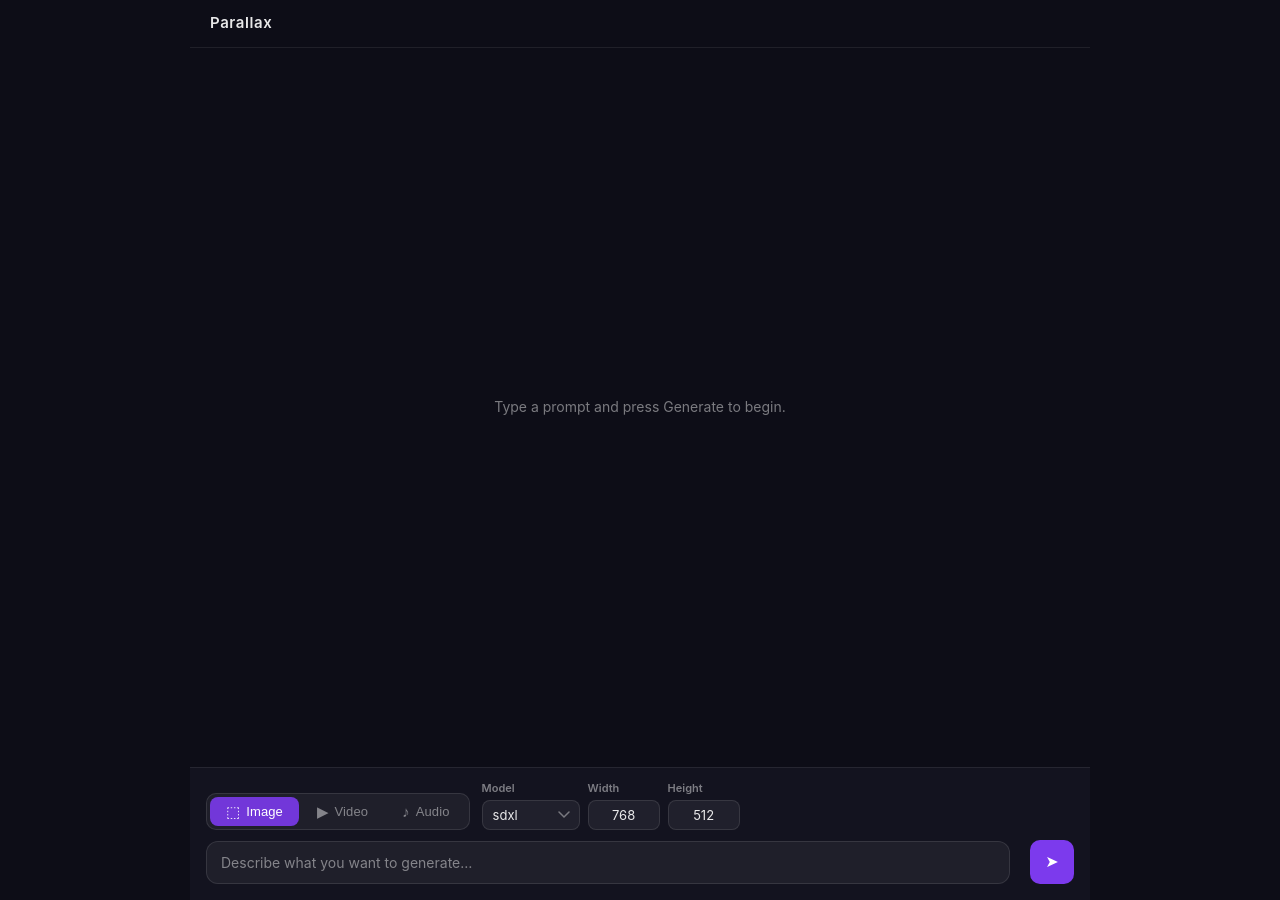
Scenario: US-003 AC03 — assistant bubble with progress indicator › shows an assistant bubble immediately after submit
The width and height of the screenshot is (1280, 900).
In the text box with test id "prompt-input": coordinates (608, 862) top-left (206, 841), bottom-right (1010, 884), type "test prompt"
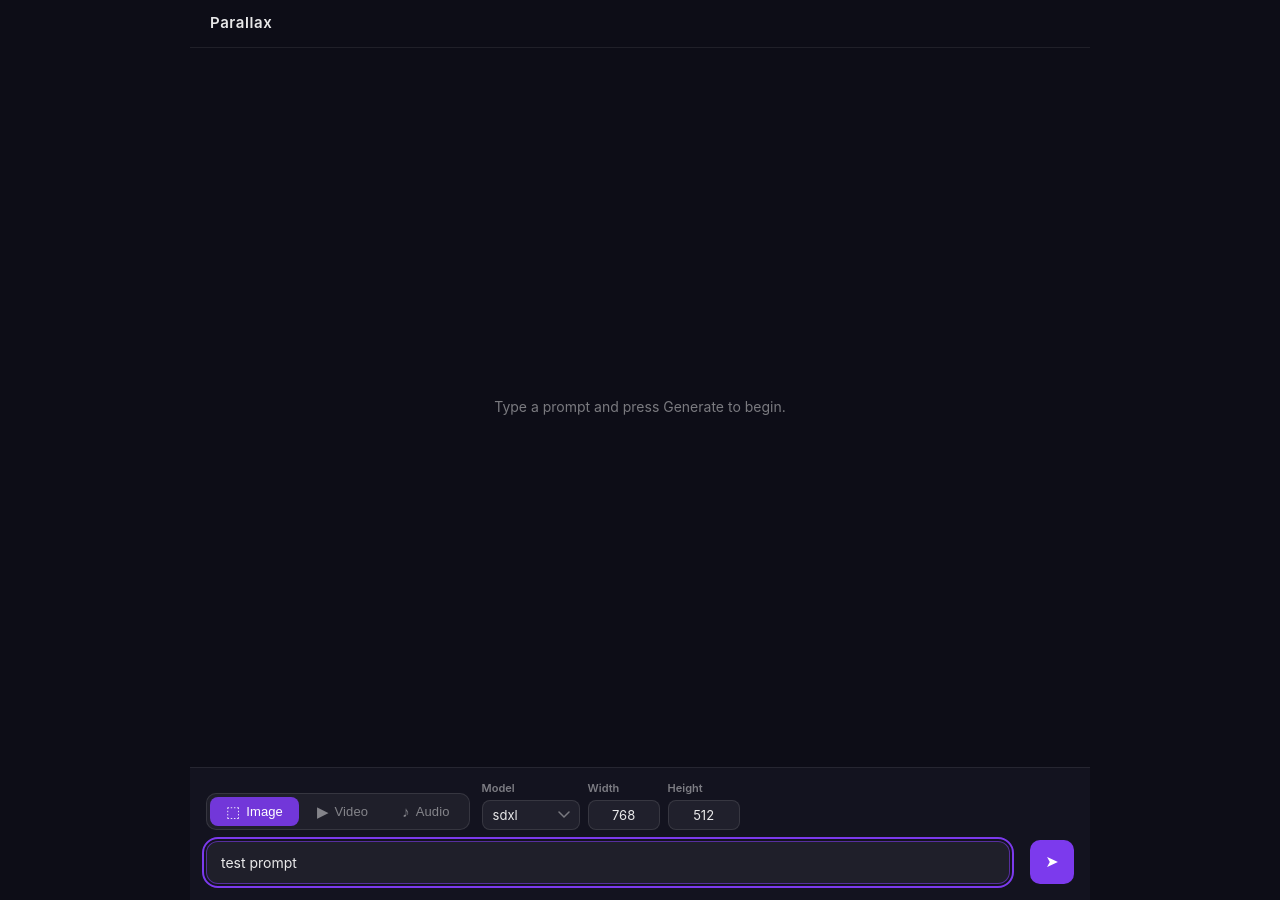
Click the button named "Generate": coordinates (1052, 862) top-left (1030, 840), bottom-right (1074, 884)
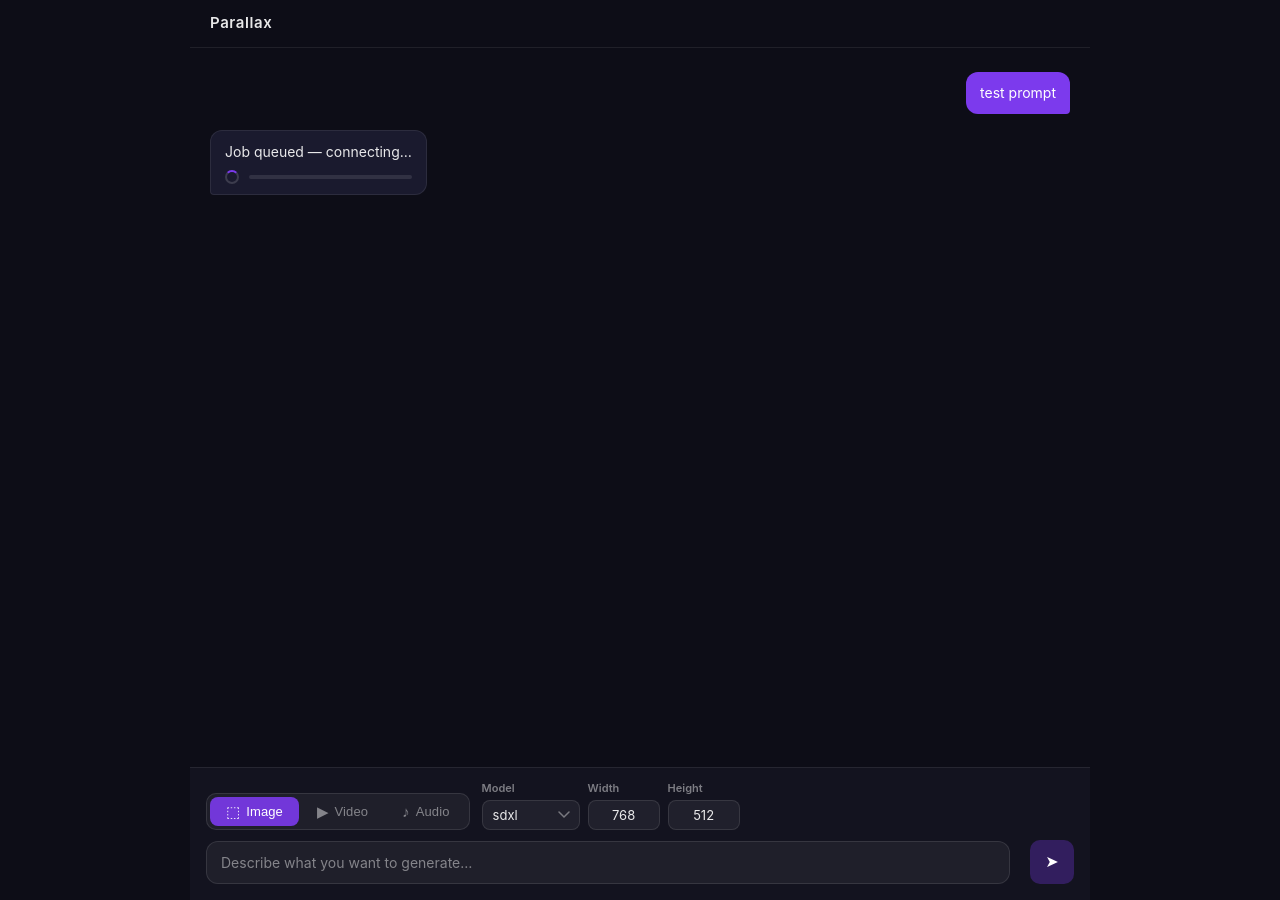
Result: the element with test id "bubble-assistant" is shown at top-left (210, 130), bottom-right (427, 195)
